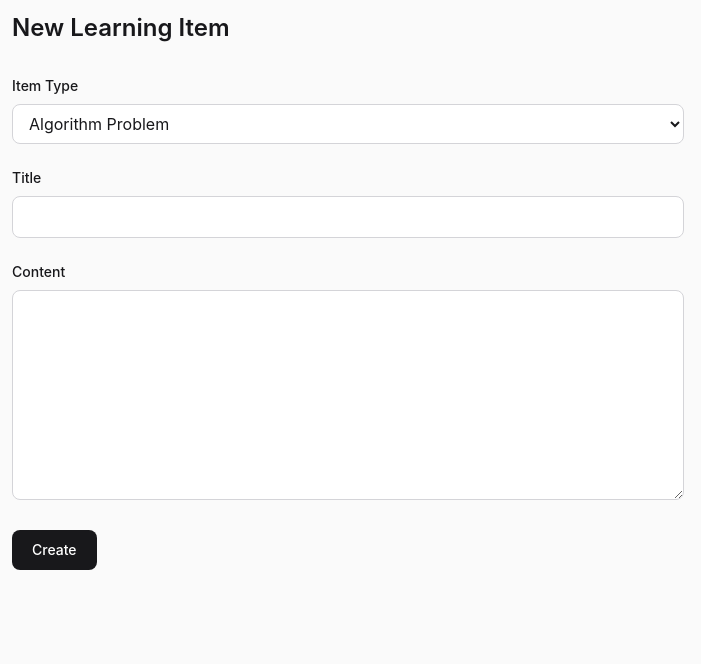
Test case: CreateLearningItemPage › 201以外なら入力エラーを表示する
In the field labelled "Title": (348, 217) [12, 196, 684, 238], type "二分探索"
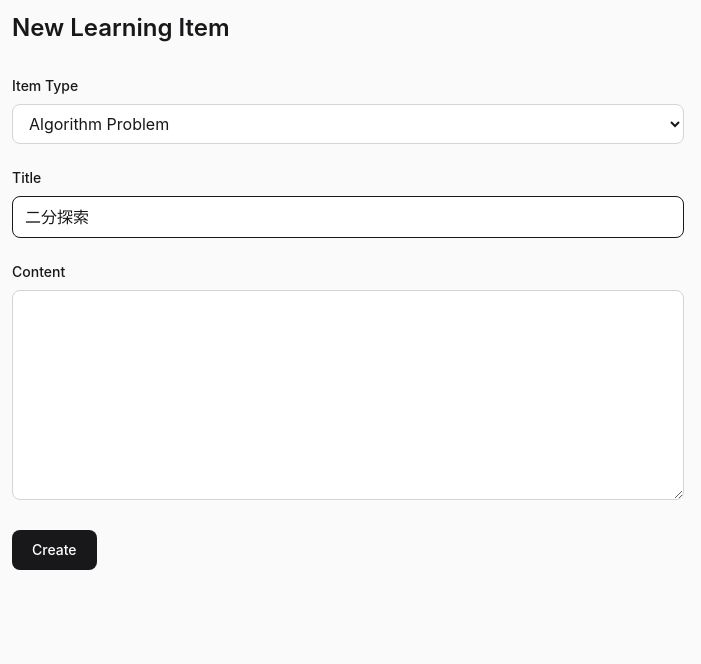
Click the button "Create": (54, 550) [12, 530, 97, 570]
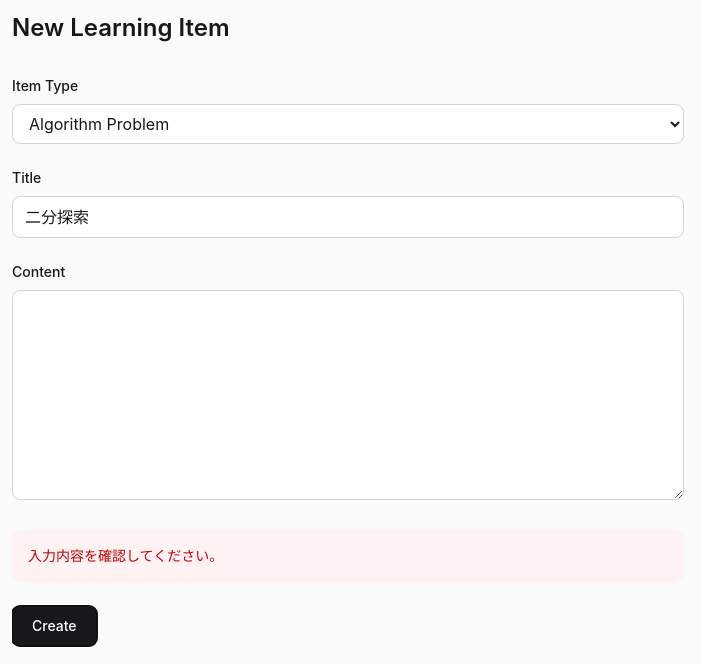
expect the text "入力内容を確認してください。" is shown: met, box [12, 530, 684, 582]
